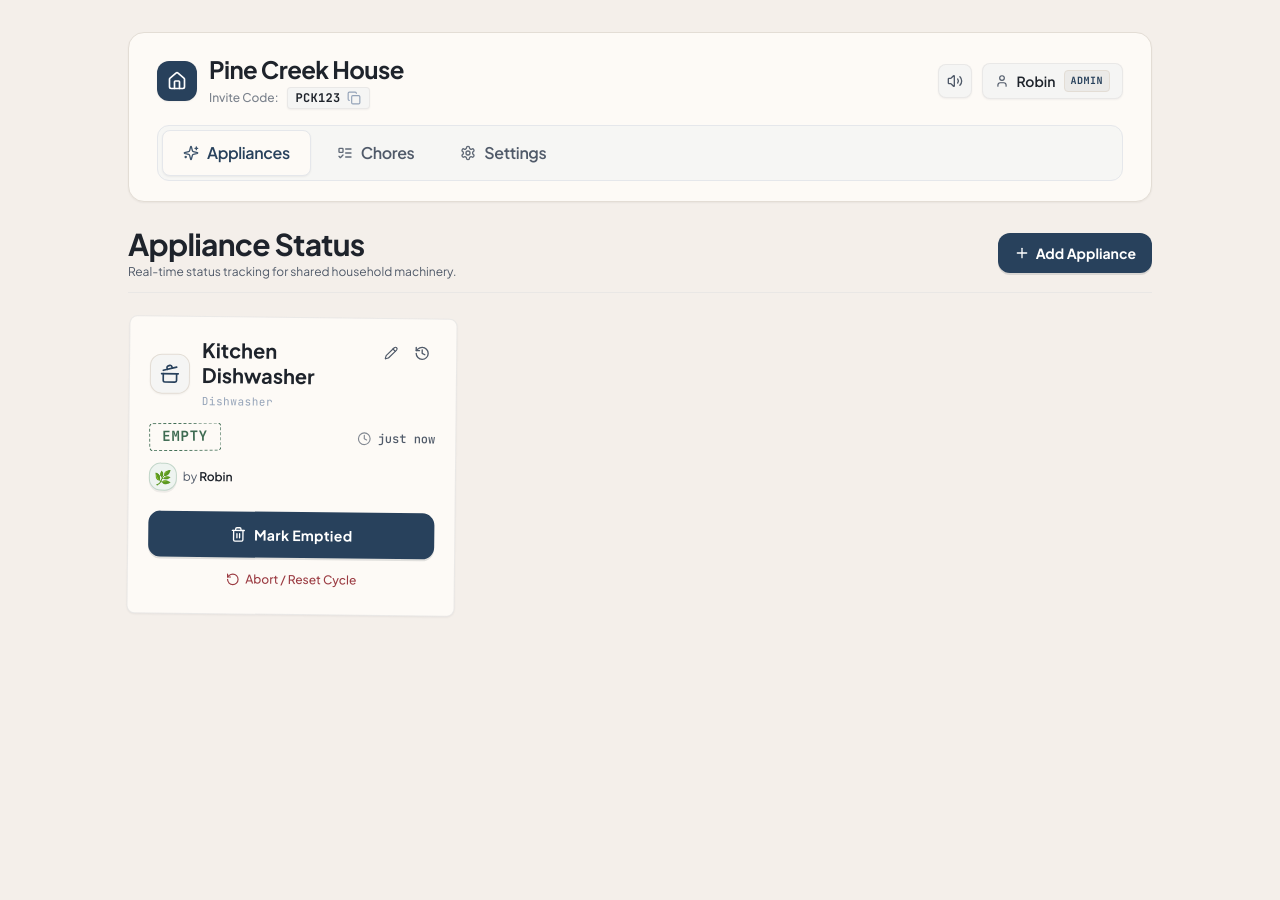
Test: App Integration › renders main application and navigates tabs when authenticated
This screenshot has width=1280, height=900.
Expected: the heading "Pine Creek House" is shown, [209,53,404,85]
Expected: the heading "Kitchen Dishwasher" is shown, [202,337,315,388]
# Navigate to Chores tab
Click the tab "Chores".
click(376, 153)  # box [317,131,434,175]
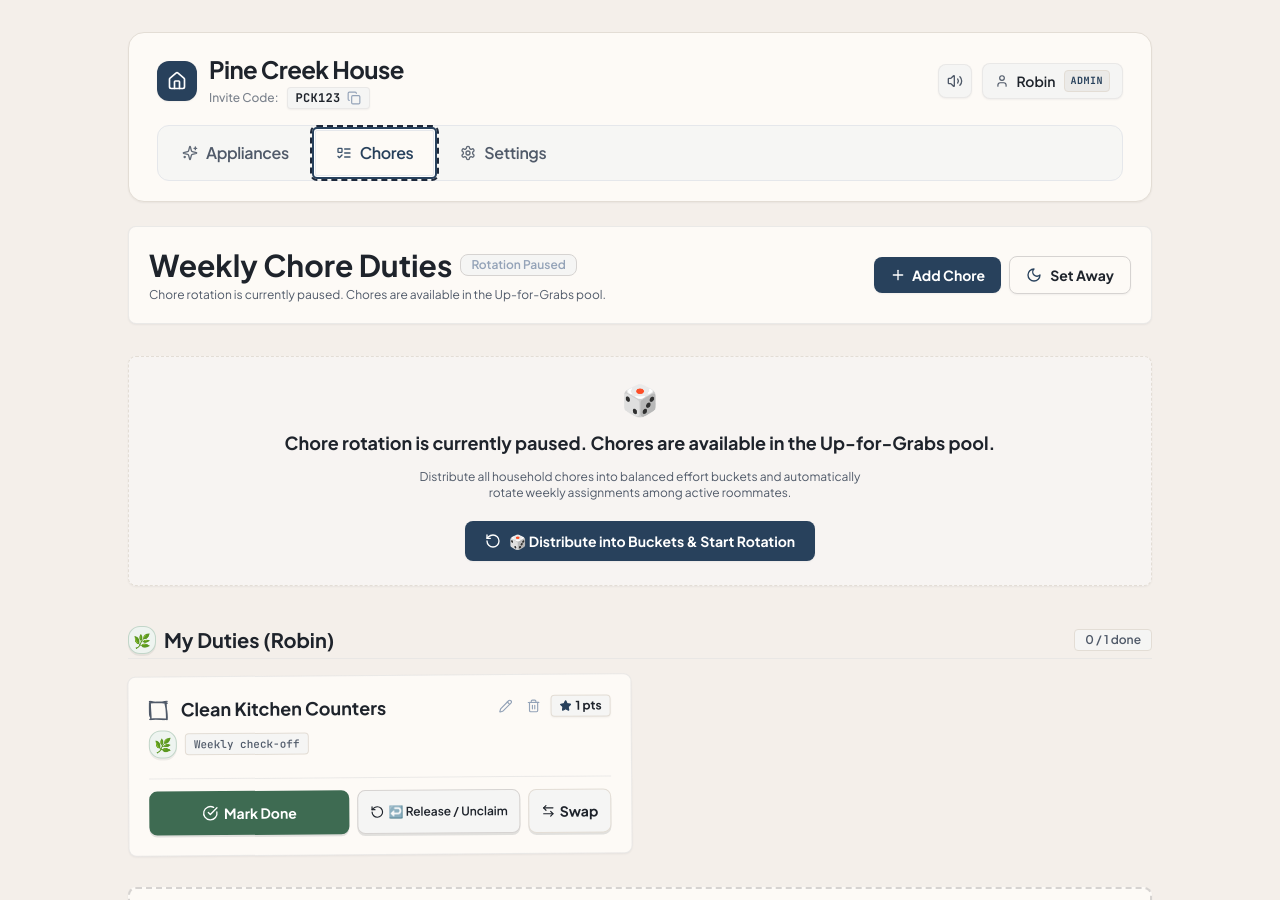
Expected: the text "Clean Kitchen Counters" is shown, [180,696,386,720]
# Navigate to Settings tab
Click the tab "Settings".
click(503, 153)  # box [440,131,566,175]
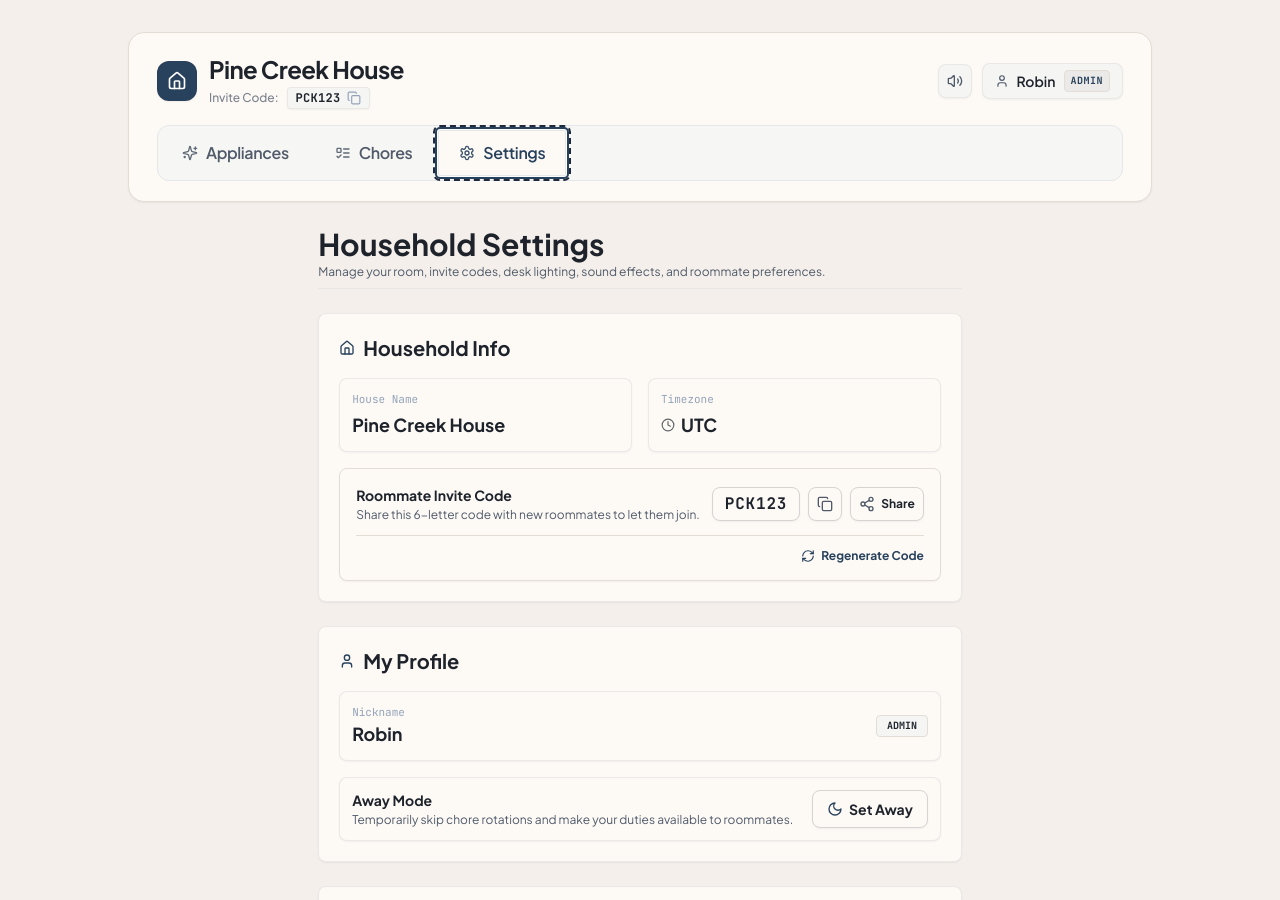
Expected: the heading "Household Settings" is shown, [318,225,604,263]
